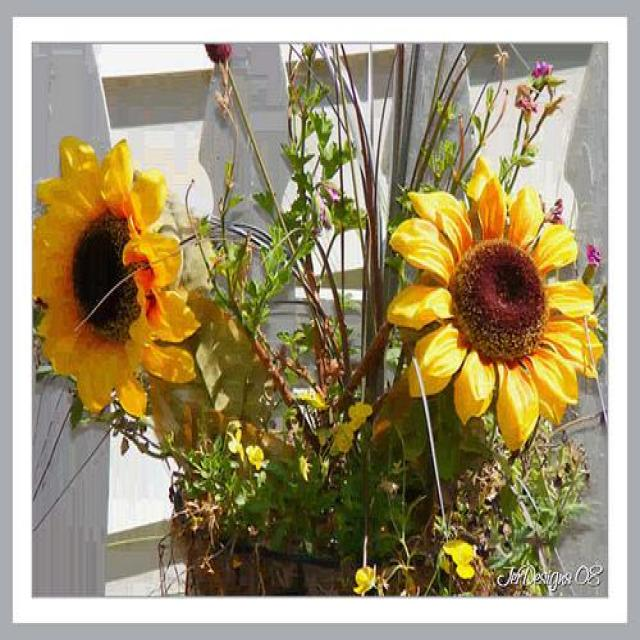sunflower: (387, 153, 602, 451), (33, 137, 196, 428)
